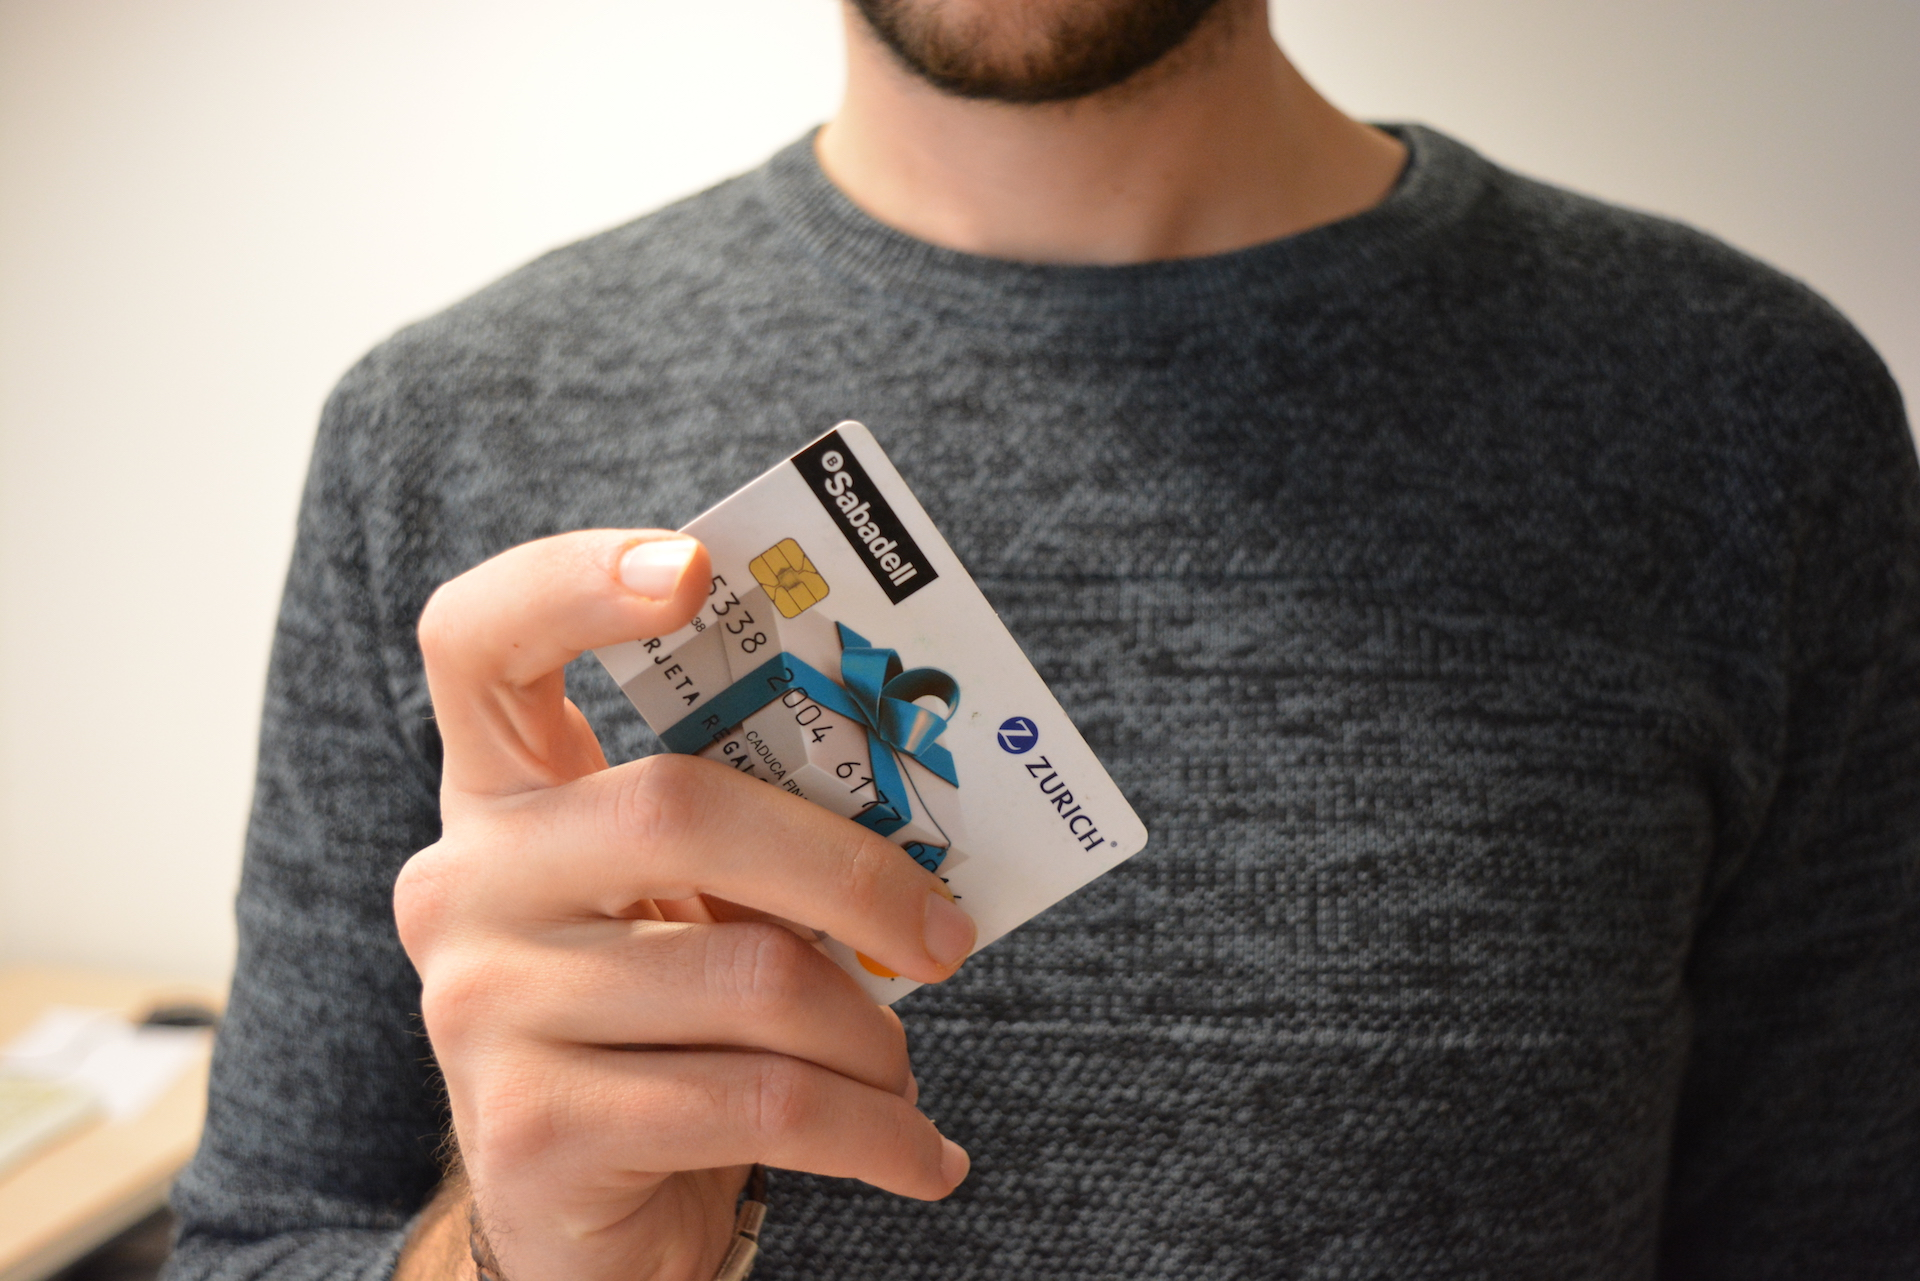tarjeta: (583, 416, 1149, 1009)
